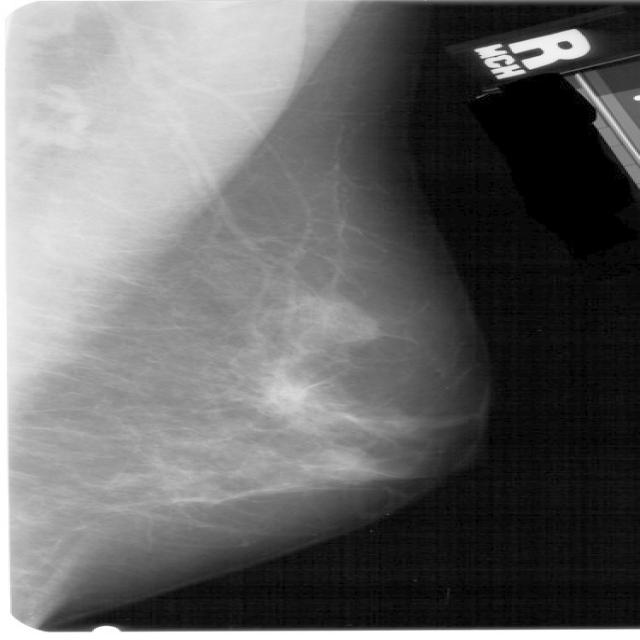tumour: (263, 372, 314, 412)
